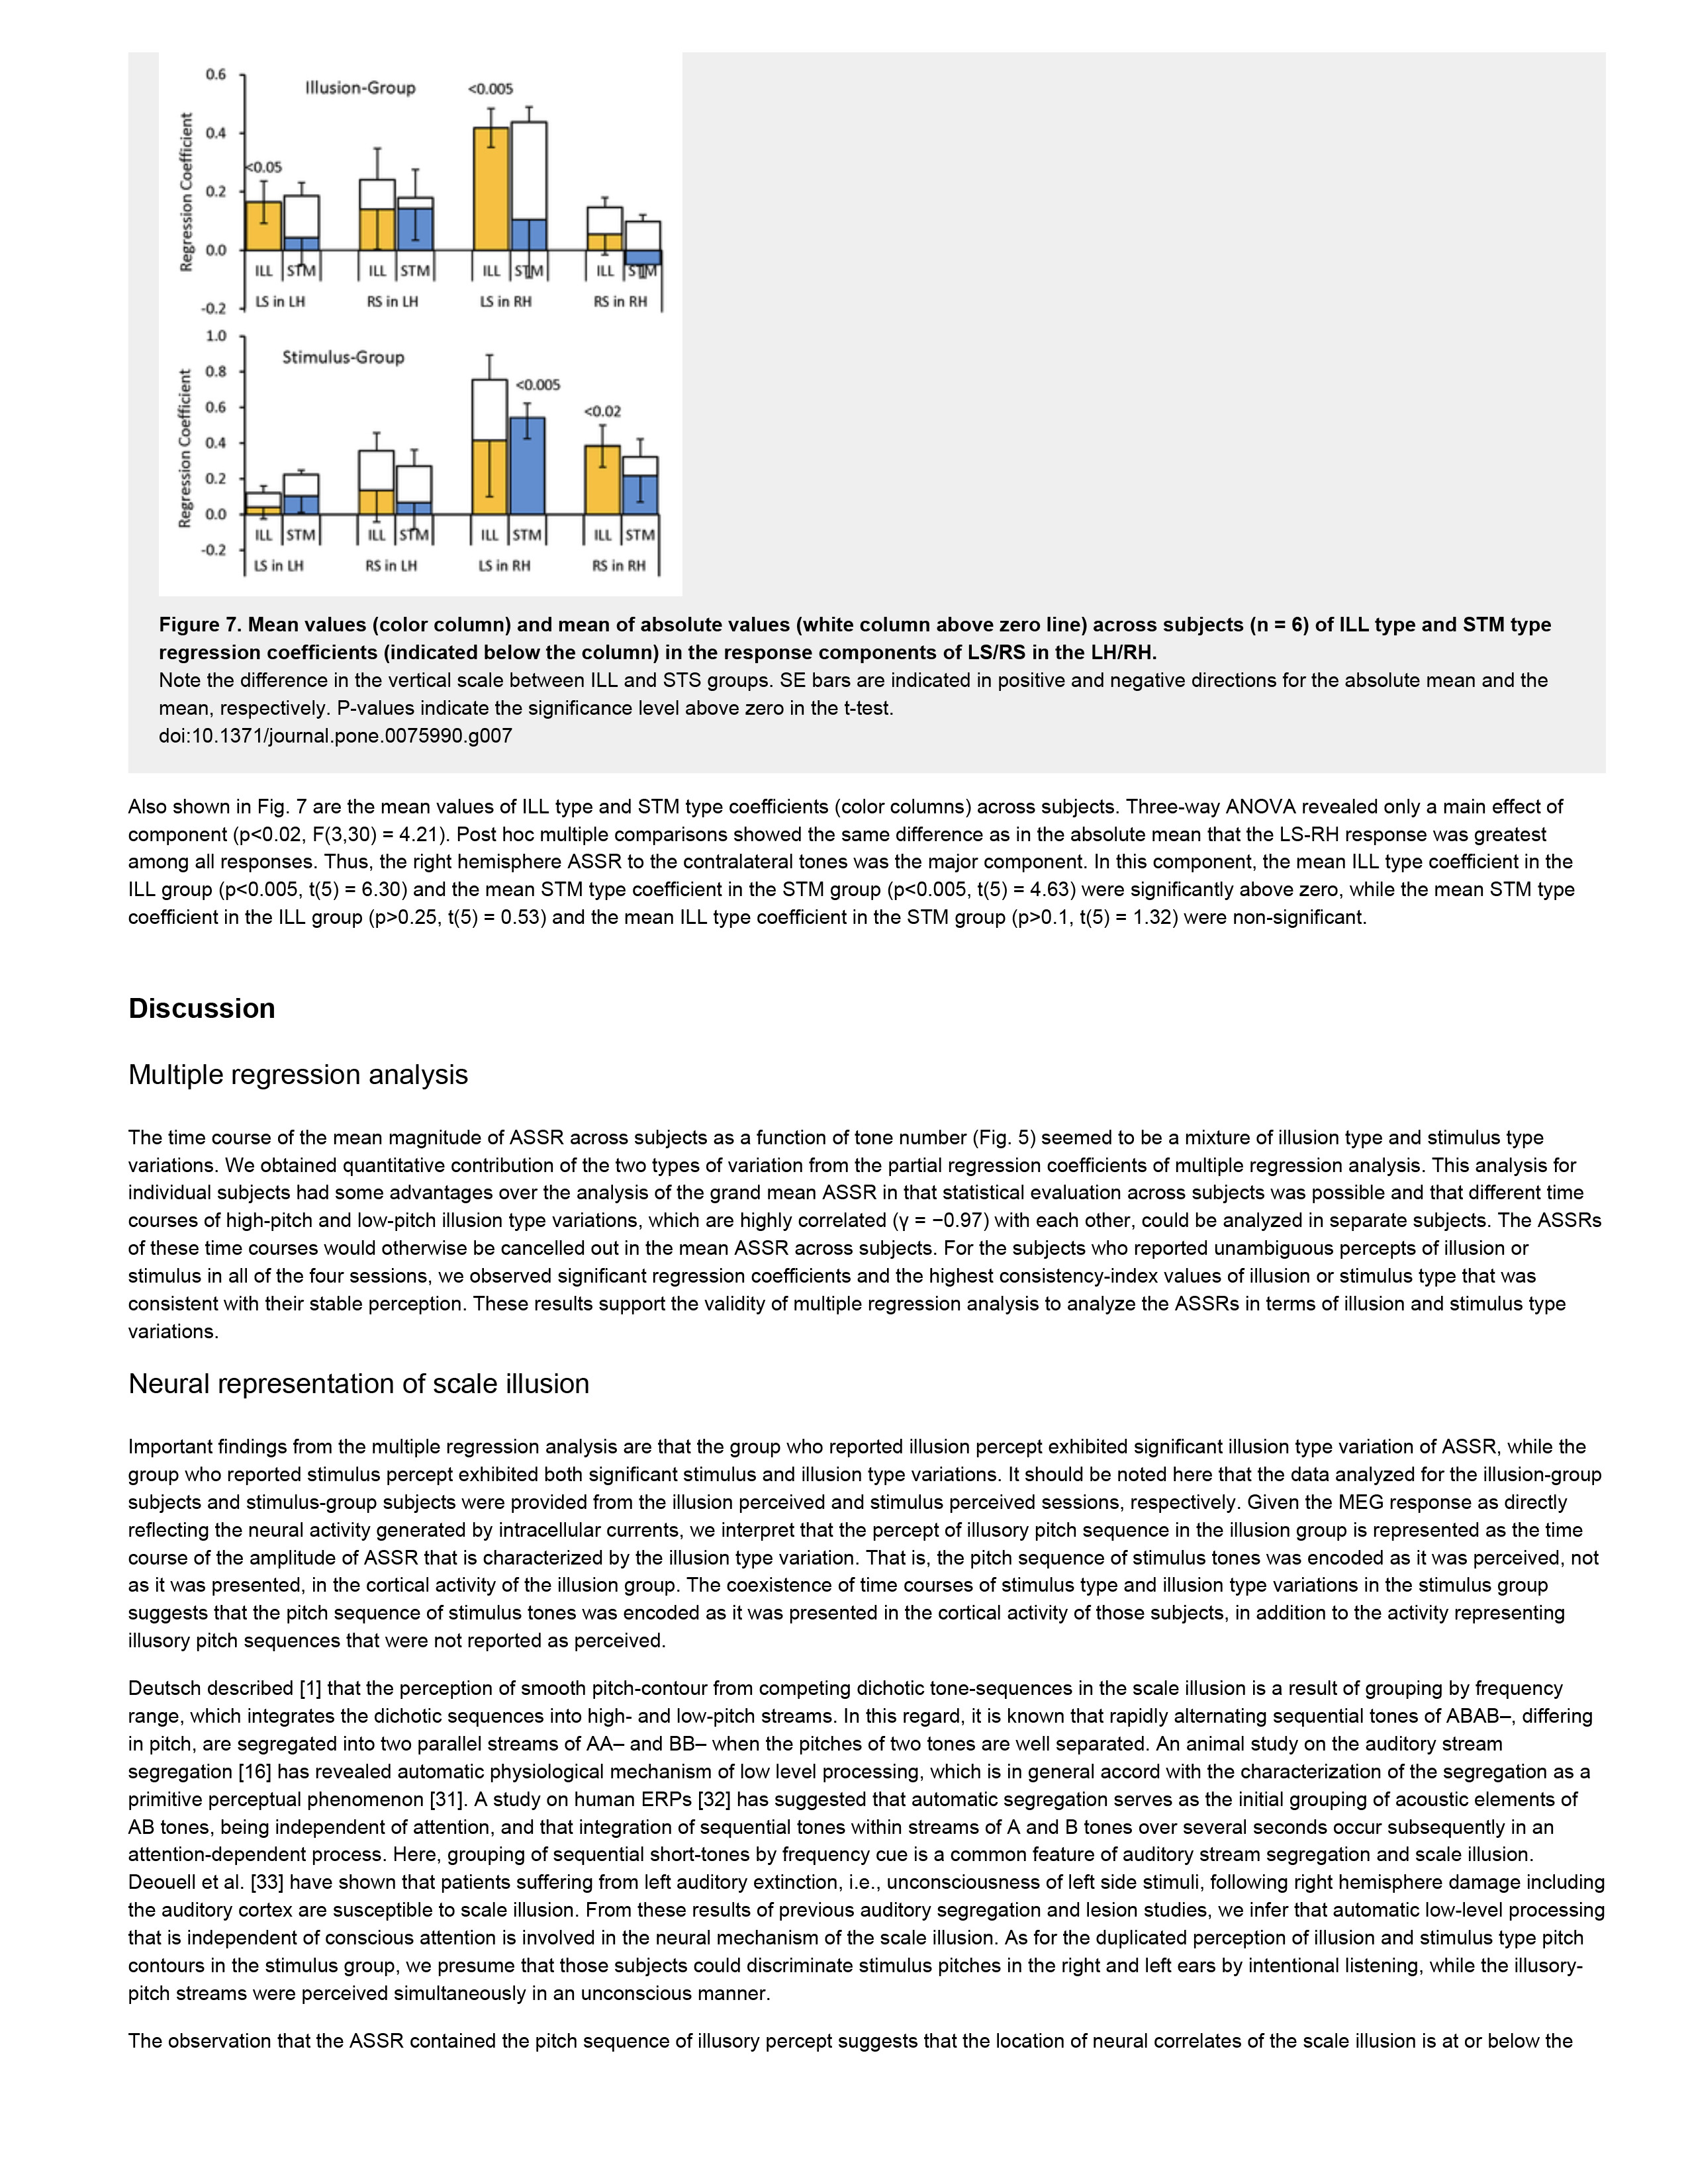caption: (152, 592, 1567, 762)
figure: (160, 53, 679, 592)
section: (126, 1055, 475, 1103), (113, 989, 287, 1028)
text: (126, 1675, 1605, 2010), (121, 1119, 1612, 1345), (121, 1441, 1601, 1657), (113, 785, 1592, 940), (122, 2014, 1599, 2074), (121, 1369, 592, 1418)
